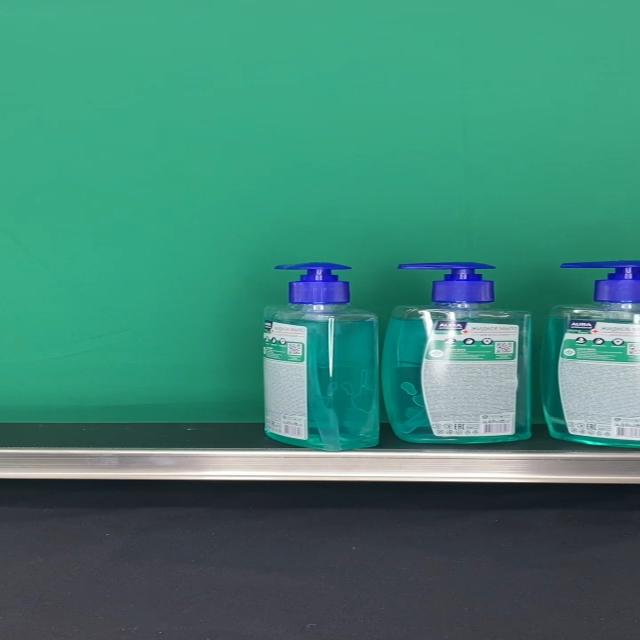Bottle: (381, 262, 531, 444), (261, 262, 381, 450)
Cap: (397, 262, 495, 303), (274, 262, 352, 304)
